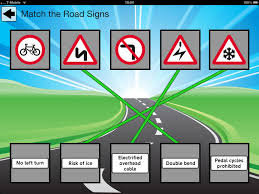Double_bend_left: (62, 32, 98, 66)
